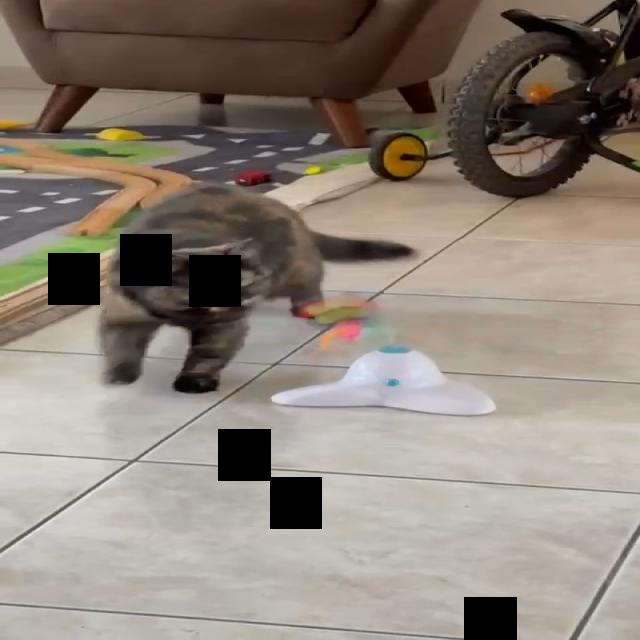authorized: (99, 184, 416, 393)
